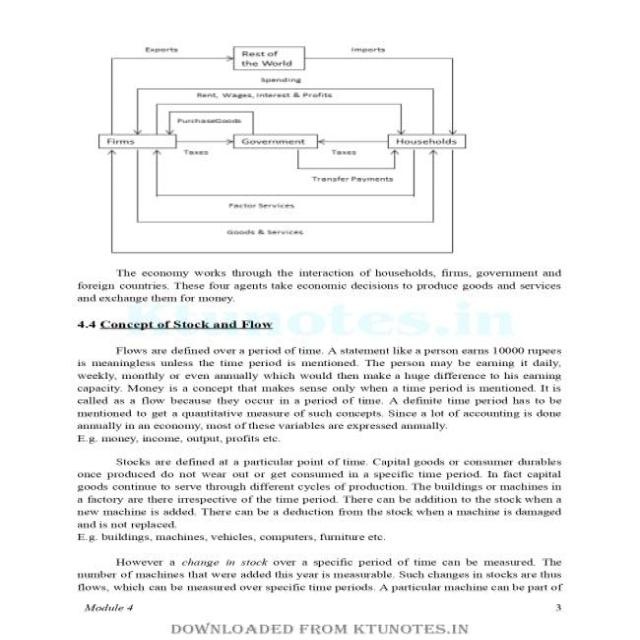Figure Detection - v3 Dataset Version2: (78, 34, 504, 259)
